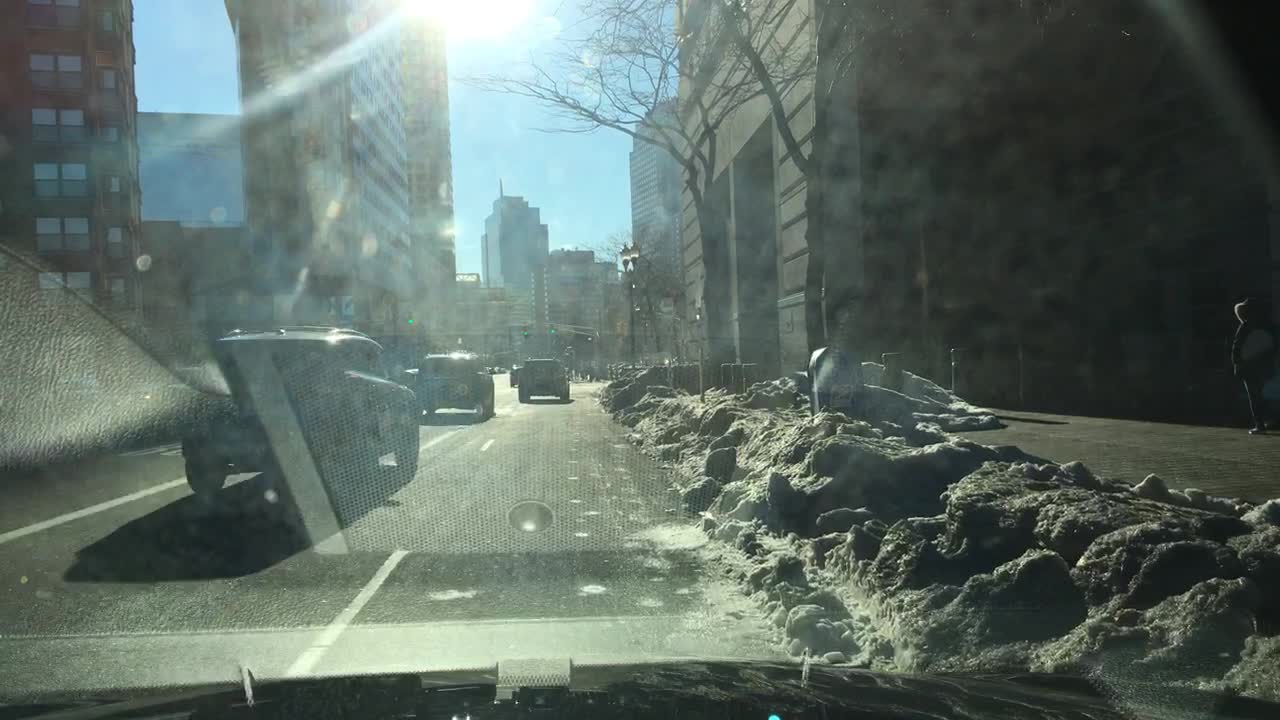car: (180, 326, 424, 495), (415, 351, 496, 416), (516, 356, 572, 404), (399, 365, 419, 389), (507, 361, 520, 390)
person: (1232, 290, 1278, 436)
traffic light: (405, 309, 414, 323), (521, 325, 531, 336), (549, 321, 556, 334)
